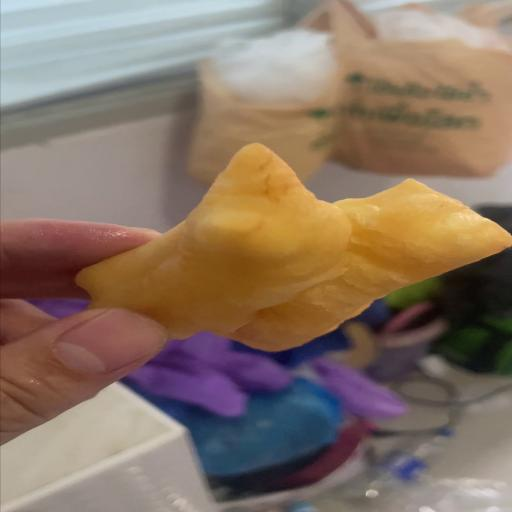street_golden_good: (79, 144, 510, 350)
